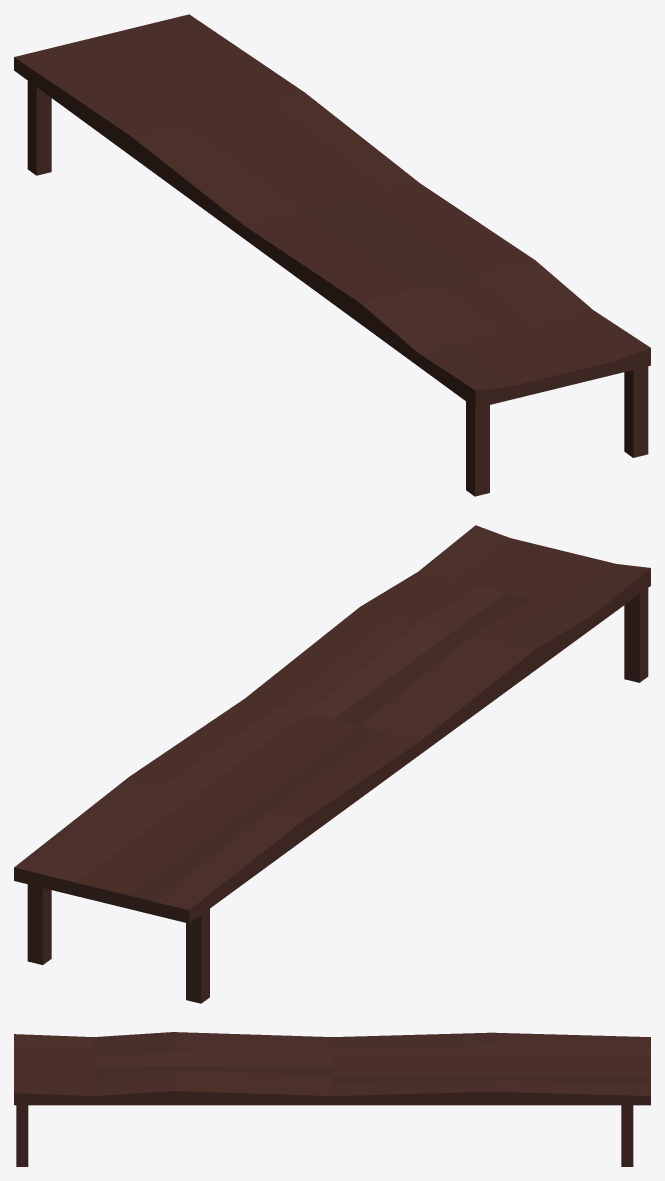
The model's file is Restraunt_desk.fbx.
3 renders of one model, top to bottom at view 1: azimuth 30°, elevation 25°; view 2: azimuth 150°, elevation 25°; view 3: azimuth 270°, elevation 25°, orthographic. The views are drawn at different scales.
Parts seen in each view (by area): view 1: Cube.001; view 2: Cube.001; view 3: Cube.001.
Boxes of the visible parts, box(x1,y1,x2,y2) form: Cube.001: box(14, 14, 650, 496); Cube.001: box(14, 525, 650, 1003); Cube.001: box(14, 1032, 650, 1166).
Size of the model in its own units: 759 by 460 by 3464.
